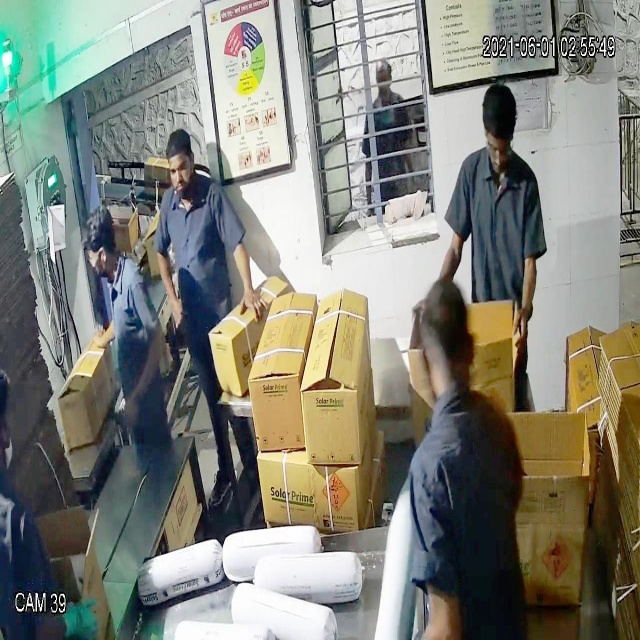Sin_gafas: (162, 154, 198, 186)
